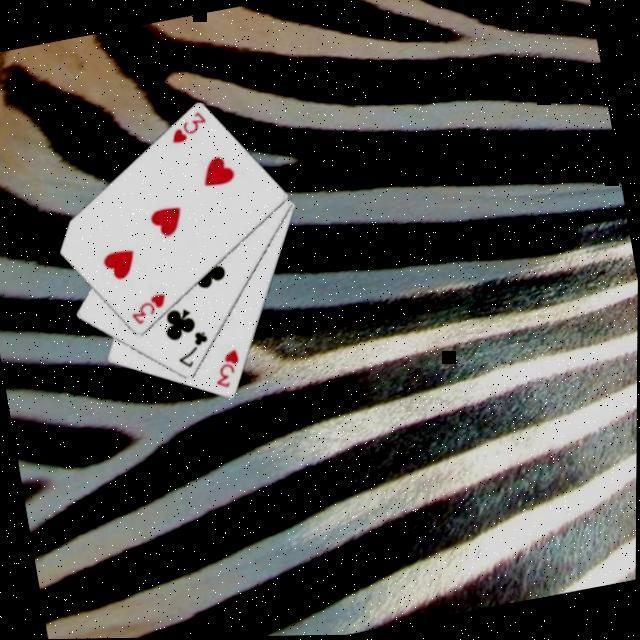3H: (165, 106, 212, 148), (208, 346, 248, 392), (126, 288, 172, 328)
7C: (172, 325, 216, 372)
